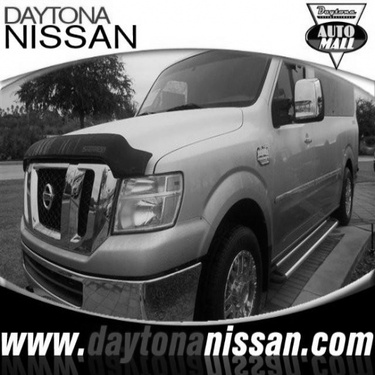car: (17, 43, 368, 323)
